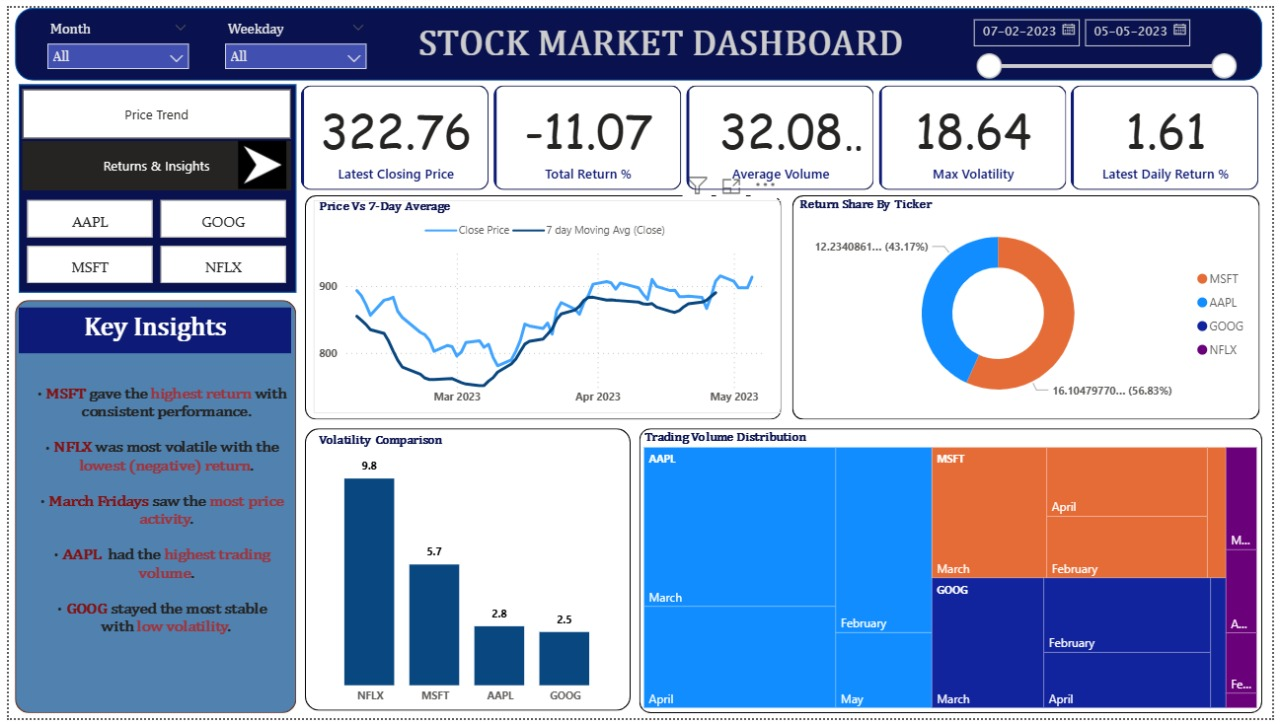

The dashboard page shown, as its layout file describes it:
{"tool":"powerbi","page":{"name":"Returns & Insights","canvas":[1280,720],"ordinal":1},"visuals":[{"type":"shape","box":[6.2,0,1263.8,73.8],"z":0},{"type":"textbox","box":[385,11.2,551.2,55],"z":1000},{"type":"shape","box":[793.8,190,473.8,227.5],"z":2000},{"type":"shape","box":[638.8,426.2,631.2,288.8],"z":3000},{"type":"shape","box":[299.6,189.5,483,227.4],"z":4000},{"type":"shape","box":[10,77.5,281.2,211.2],"z":5000},{"type":"advancedSlicerVisual","fields":{"Values":["stocks.Ticker"]},"box":[13.8,190,272.5,95],"z":6000},{"type":"slicer","fields":{"Values":["stocks.Month"]},"box":[28.8,7.5,163.8,58.8],"z":7000},{"type":"slicer","fields":{"Values":["stocks.Weekday"]},"box":[208.8,7.5,163.8,58.8],"z":8000},{"type":"slicer","fields":{"Values":["stocks.Date"]},"box":[965,1.2,287.5,72.5],"z":9000},{"type":"shape","box":[300,426.2,330,286.2],"z":10000},{"type":"donutChart","title":"Return Share By Ticker","fields":{"Category":["stocks.Ticker"],"Y":["stocks.Total Return %"]},"box":[796.1,192,469.6,222.6],"z":11000},{"type":"treemap","title":"Trading Volume Distribution","fields":{"Group":["stocks.Ticker"],"Details":["stocks.Month"],"Values":["Sum(stocks.Volume)"]},"box":[638.3,429.2,631,286.1],"z":12000},{"type":"shape","box":[6.2,296.2,285,418.8],"z":13000},{"type":"clusteredColumnChart","title":"Volatility Comparison ","fields":{"Category":["stocks.Ticker"],"Y":["Avg(stocks.Volatility)"]},"box":[308.2,431.7,313,283.7],"z":14000},{"type":"lineChart","title":"Price Vs 7-Day Average ","fields":{"Category":["stocks.Date"],"Y":["Sum(stocks.Close)"],"Y2":["Sum(stocks.7 day Moving Avg (Close))"]},"box":[308.2,194.4,474.5,216.4],"z":15000},{"type":"pageNavigator","box":[13.8,82.5,272.5,50],"z":16000},{"type":"pageNavigator","box":[13.8,135,272.5,50],"z":17000},{"type":"textbox","box":[9.8,303.3,276.4,46.5],"z":18000},{"type":"textbox","box":[13.5,359.5,272.7,344.8],"z":19000},{"type":"image","box":[227.4,127.2,58.7,63.6],"z":20000},{"type":"cardVisual","fields":{"Data":["stocks.Latest Closing Price","stocks.Total Return %","stocks.Average Volume","stocks.Max Volatility","stocks.Latest Daily Return %"]},"box":[291.2,73.8,983.8,116.2],"z":21000}]}

Visuals, with their boxes in screenshot pixels (x1, y1, x2, y2), scaled from the page's 1280x720 canvas onto the 1280x724 screenshot:
shape: l=6, t=0, r=1270, b=74
textbox: l=385, t=11, r=936, b=67
shape: l=794, t=191, r=1268, b=420
shape: l=639, t=429, r=1270, b=719
shape: l=300, t=191, r=783, b=419
shape: l=10, t=78, r=291, b=290
advancedSlicerVisual - stocks.Ticker: l=14, t=191, r=286, b=287
slicer - stocks.Month: l=29, t=8, r=193, b=67
slicer - stocks.Weekday: l=209, t=8, r=373, b=67
slicer - stocks.Date: l=965, t=1, r=1252, b=74
shape: l=300, t=429, r=630, b=716
"Return Share By Ticker" donutChart: l=796, t=193, r=1266, b=417
"Trading Volume Distribution" treemap: l=638, t=432, r=1269, b=719
shape: l=6, t=298, r=291, b=719
"Volatility Comparison " clusteredColumnChart: l=308, t=434, r=621, b=719
"Price Vs 7-Day Average " lineChart: l=308, t=195, r=783, b=413
pageNavigator: l=14, t=83, r=286, b=133
pageNavigator: l=14, t=136, r=286, b=186
textbox: l=10, t=305, r=286, b=352
textbox: l=14, t=361, r=286, b=708
image: l=227, t=128, r=286, b=192
cardVisual - stocks.Latest Closing Price x stocks.Total Return %: l=291, t=74, r=1275, b=191
